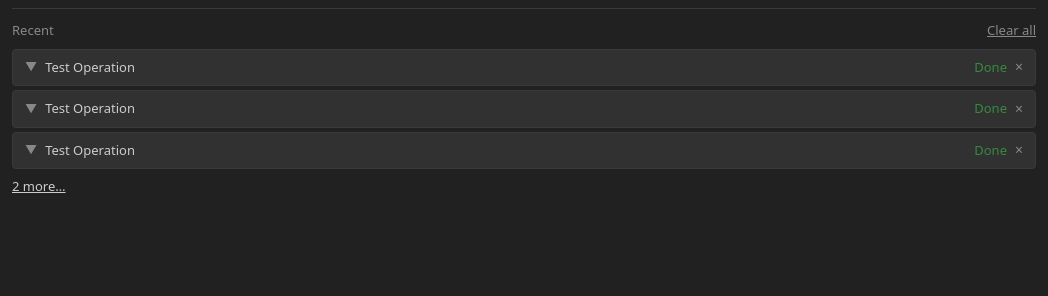
it: IOSummaryCard › show-more button reveals all rows and changes to show-less label
Click the button with class "io-summary-card__show-more" at [39, 187], box left=12, top=177, right=66, bottom=196
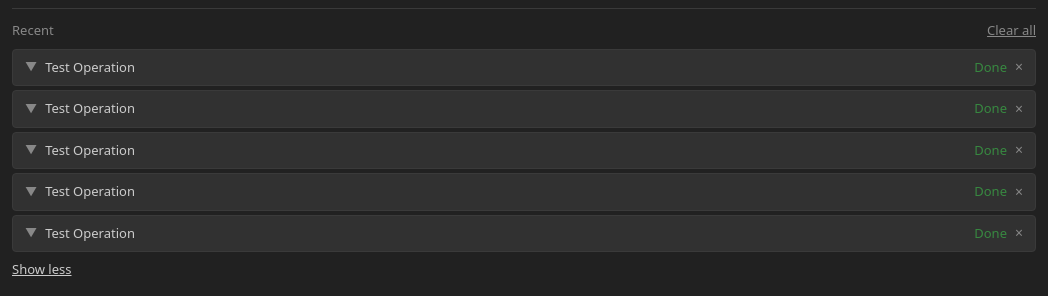
Expected: the number of elements with class "io-summary-card__row" is 5, left=12, top=48, right=1036, bottom=86; left=12, top=90, right=1036, bottom=128; left=12, top=132, right=1036, bottom=169; left=12, top=173, right=1036, bottom=210; left=12, top=214, right=1036, bottom=252
Expected: the button with class "io-summary-card__show-more" reads "Show less", left=12, top=260, right=72, bottom=280
